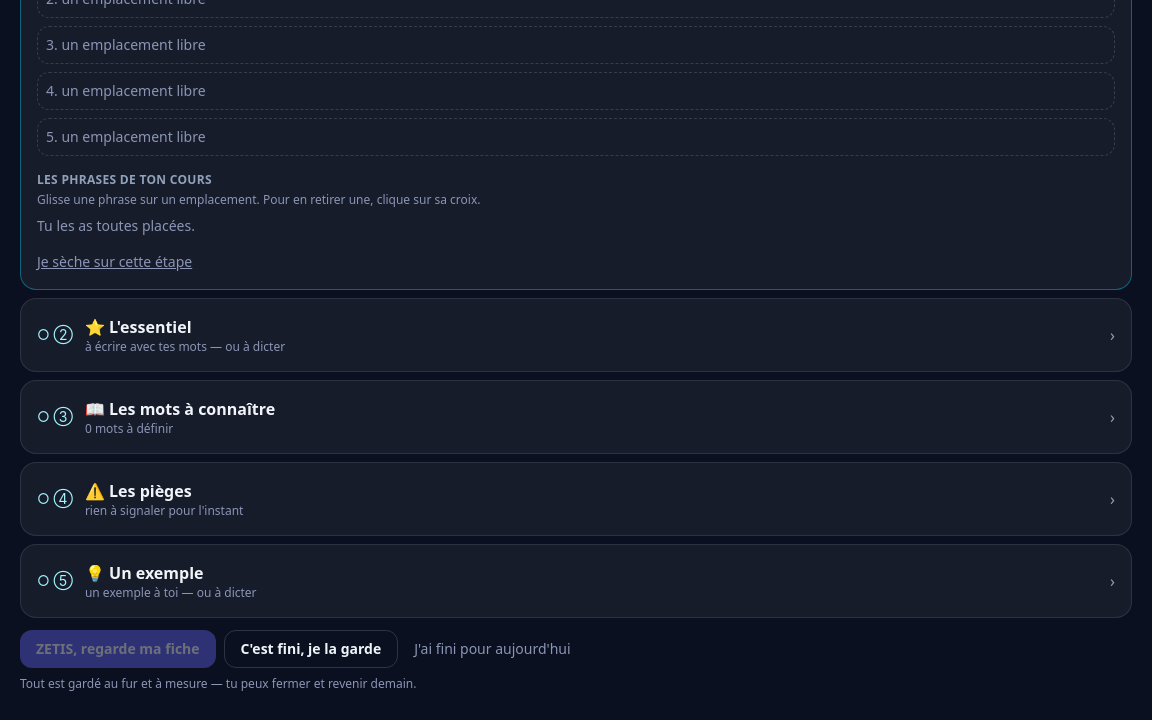
Scenario: AtelierPage — les pièges › ne reproche RIEN quand ZETIS n'a rien mesuré
(page scrolled)
What coordinates should you click on to do the following:
click the text "⚠️ Les pièges"
I would click on:
 (138, 491)
Its box is 85,480 -> 192,502.
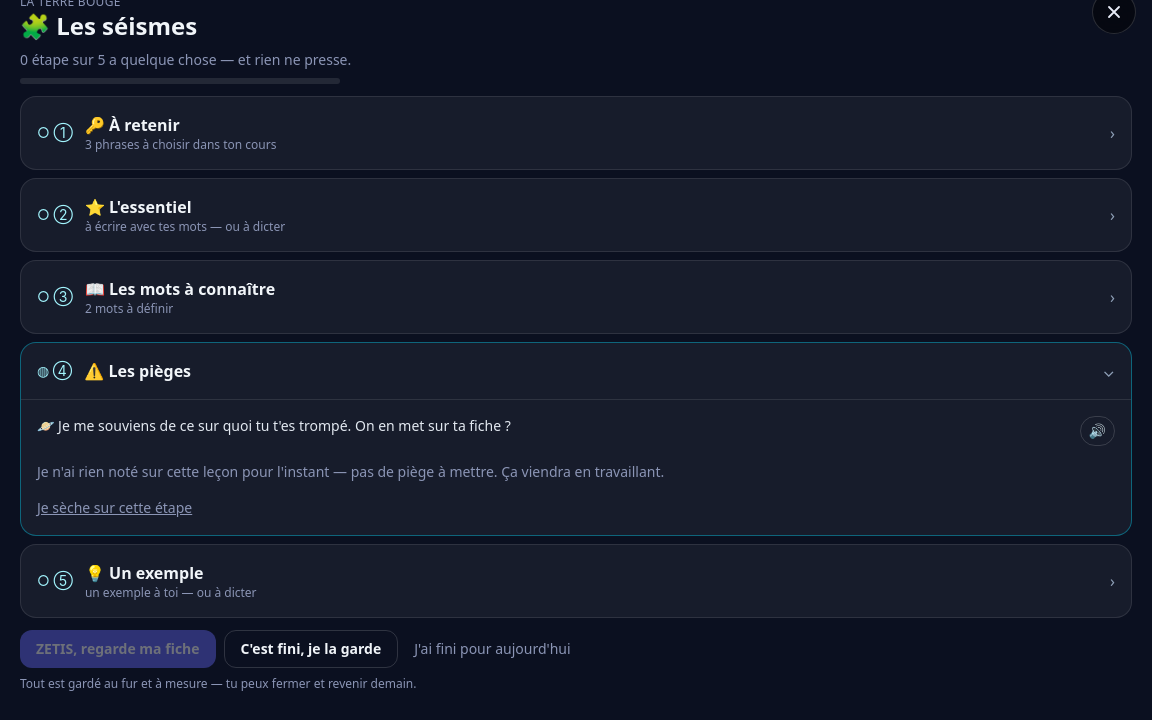
Now the text "Je n'ai rien noté sur cette leçon" is shown, box 37,462 -> 664,481
